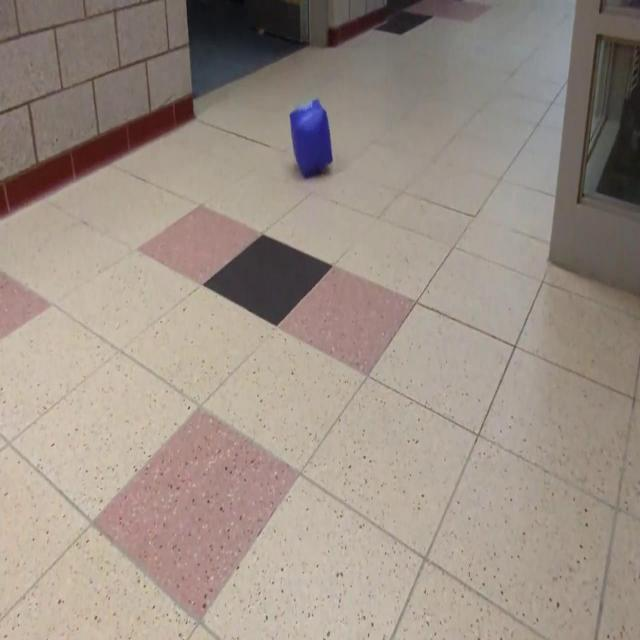frc_cube: (290, 96, 334, 180)
